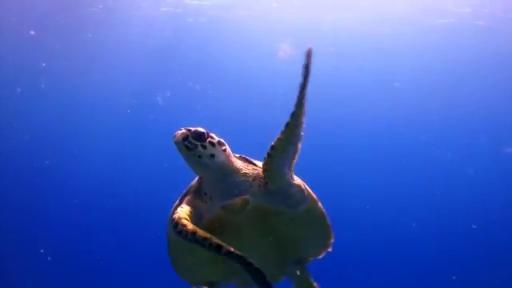Fish: (168, 48, 332, 287)
